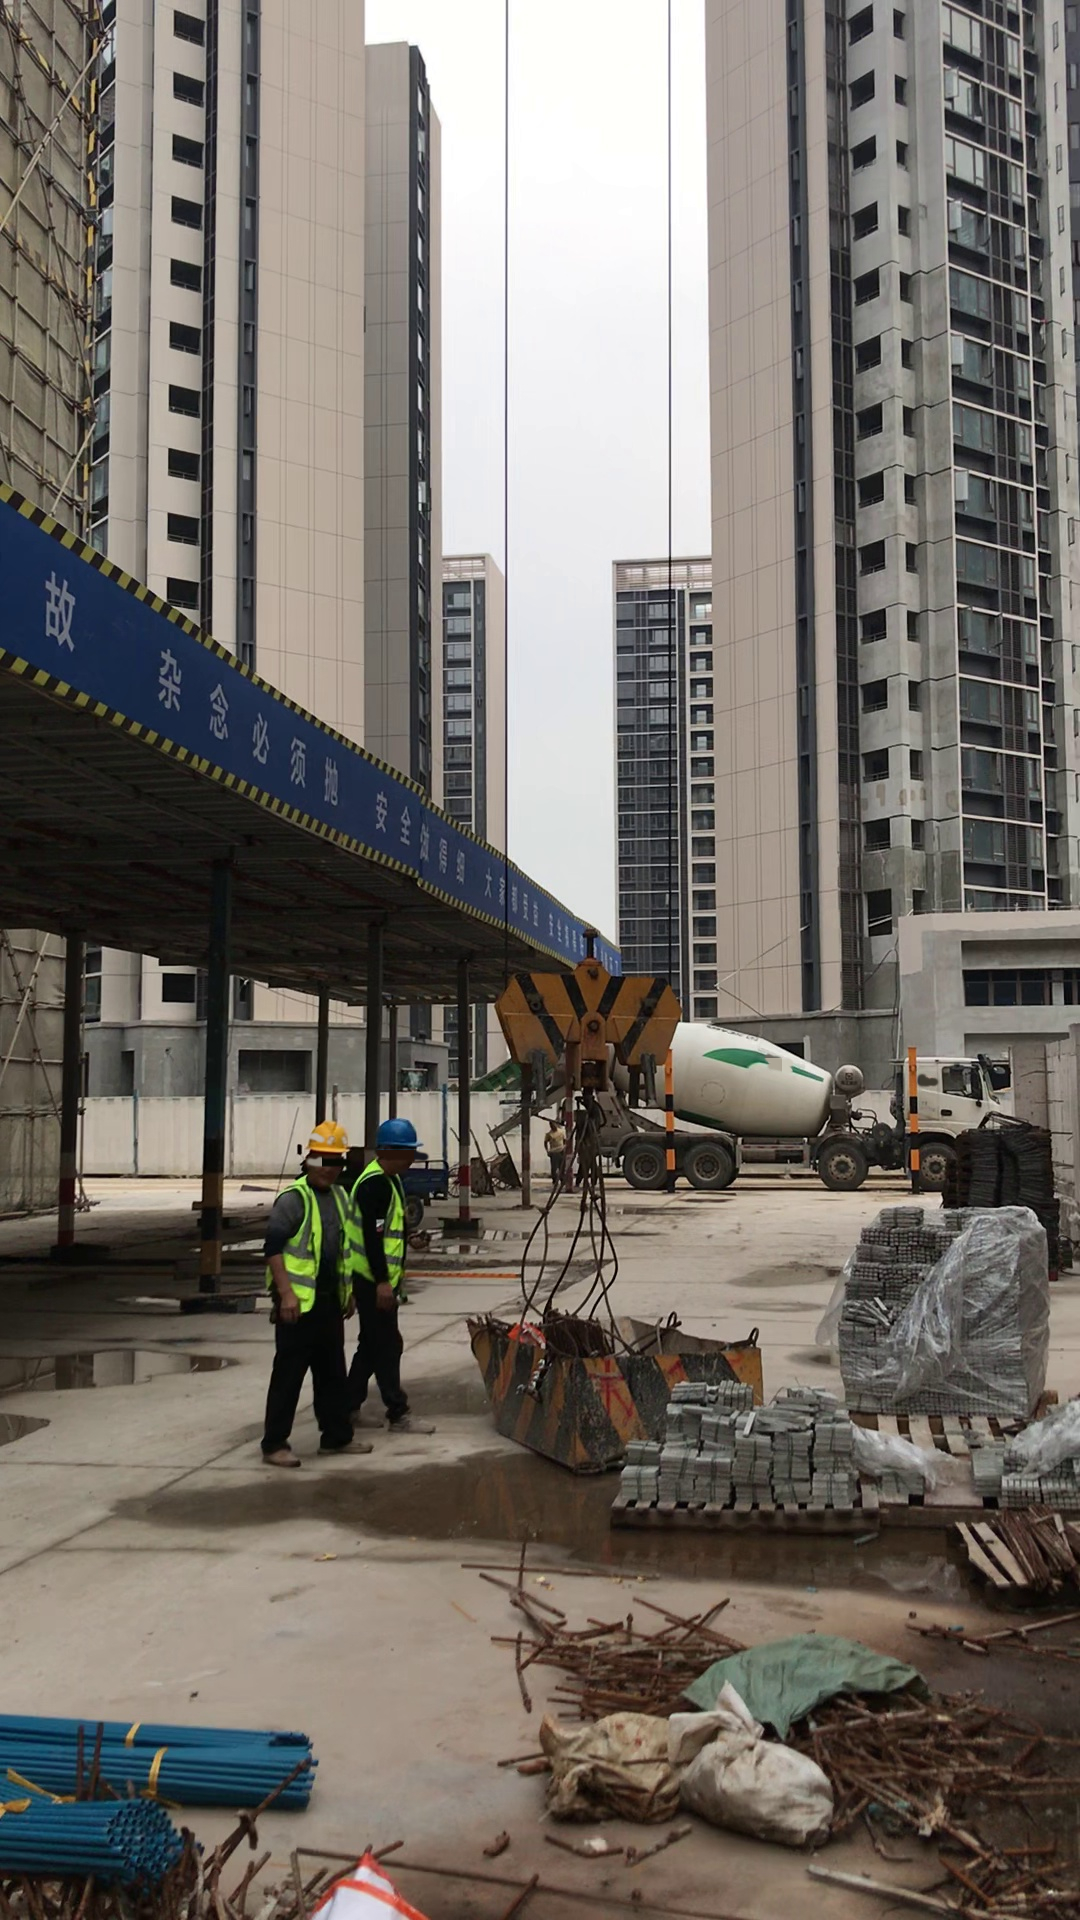handcart: (460, 1115, 527, 1195)
helmet: (288, 1119, 364, 1177), (373, 1109, 427, 1162)
hook: (509, 925, 711, 1161)
person: (350, 1111, 455, 1456), (271, 1111, 360, 1479), (543, 1115, 574, 1180)
slogan: (20, 530, 621, 977)
vest: (275, 1184, 343, 1313), (348, 1163, 417, 1290)
